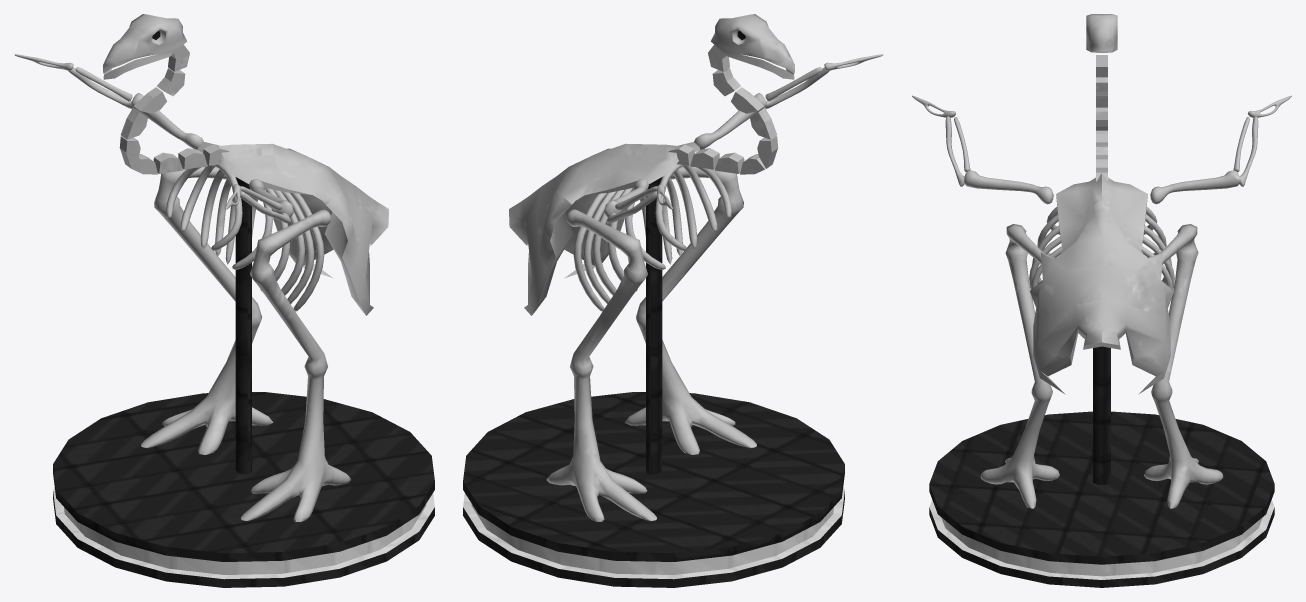
The model's file is Chicken.fbx.
3 views of the same model, side by side, from view 1: azimuth 30°, elevation 25°; view 2: azimuth 150°, elevation 25°; view 3: azimuth 270°, elevation 25° (orthographic). The views are drawn at different scales.
Parts seen in each view (by area): view 1: Cube; view 2: Cube; view 3: Cube.
Part boxes in pixels (x1,y1,x2,y2): Cube: (14,14,434,587); Cube: (463,14,883,587); Cube: (912,14,1291,587).
Size of the model in its own units: 294 by 432 by 323.
